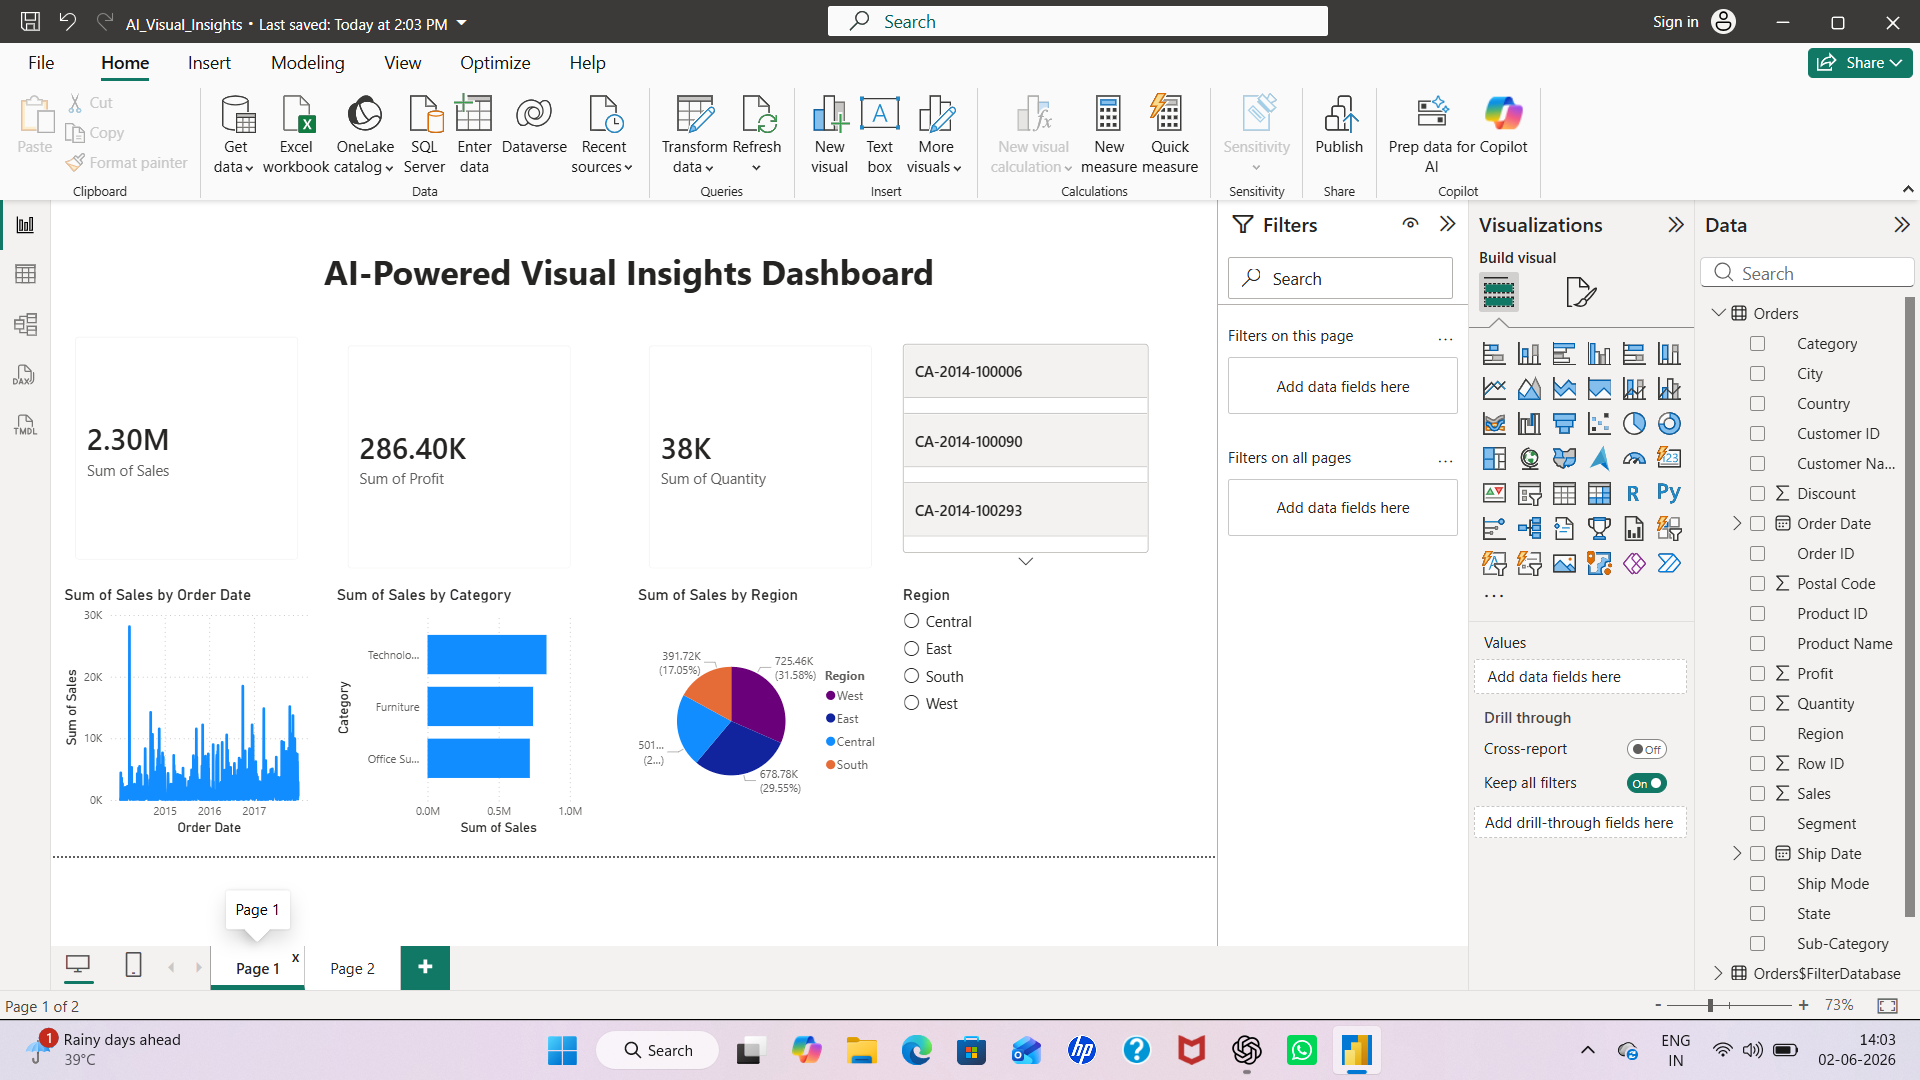

This screenshot's page, from the dashboard's own definition file:
{"tool":"powerbi","page":{"name":"Page 1","canvas":[1280,720],"ordinal":0},"visuals":[{"type":"cardVisual","fields":{"Data":["Sum(Orders.Sales)"]},"box":[9.6,133.1,279.9,279.9],"z":0},{"type":"cardVisual","fields":{"Data":["Sum(Orders.Profit)"]},"box":[308.7,142.7,279.9,279.9],"z":1},{"type":"cardVisual","fields":{"Data":["Sum(Orders.Quantity)"]},"box":[639.5,142.7,279.9,279.9],"z":2},{"type":"cardVisual","fields":{"Rows":["Orders.Order ID"]},"box":[930.4,133.1,279.9,279.9],"z":3},{"type":"lineChart","fields":{"Y":["Sum(Orders.Sales)"],"Category":["Orders.Order Date"]},"box":[10,423,280,280],"z":4},{"type":"clusteredBarChart","fields":{"Category":["Orders.Category"],"Y":["Sum(Orders.Sales)"]},"box":[309,423,280,280],"z":5},{"type":"pieChart","fields":{"Category":["Orders.Region"],"Y":["Sum(Orders.Sales)"]},"box":[639,423,280,280],"z":6},{"type":"listSlicer","fields":{"Values":["Orders.Region"]},"box":[930,423,280,280],"z":7},{"type":"textbox","box":[129,48,1011.3,60.4],"z":8}]}

Visuals, with their boxes on the page's 1280x720 design canvas (x1, y1, x2, y2). These are canvas units, not pixel positions in the 1920x1080 screenshot, which may show the page scaled, cropped or inside an application window:
cardVisual - Sum(Orders.Sales): bbox=[10, 133, 290, 413]
cardVisual - Sum(Orders.Profit): bbox=[309, 143, 589, 423]
cardVisual - Sum(Orders.Quantity): bbox=[640, 143, 919, 423]
cardVisual - Orders.Order ID: bbox=[930, 133, 1210, 413]
lineChart - Sum(Orders.Sales) x Orders.Order Date: bbox=[10, 423, 290, 703]
clusteredBarChart - Orders.Category x Sum(Orders.Sales): bbox=[309, 423, 589, 703]
pieChart - Orders.Region x Sum(Orders.Sales): bbox=[639, 423, 919, 703]
listSlicer - Orders.Region: bbox=[930, 423, 1210, 703]
textbox: bbox=[129, 48, 1140, 108]
